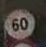limite 60: (2, 7, 37, 40)
